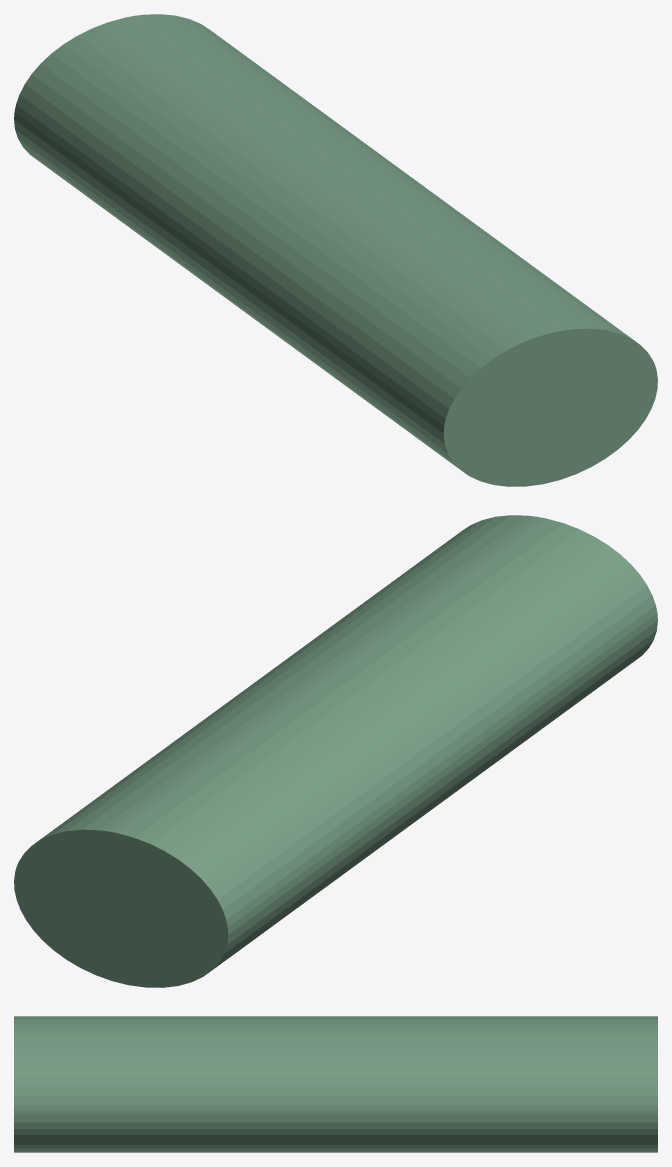
File: peg_46_canonical.obj
The picture shows the model from 3 angles, top to bottom: view 1: azimuth 30°, elevation 25°; view 2: azimuth 150°, elevation 25°; view 3: azimuth 270°, elevation 25°; orthographic projection. The views are drawn at different scales.
Parts seen in each view (by area): view 1: geometry_0; view 2: geometry_0; view 3: geometry_0.
Part boxes in pixels (left/top/right/bottom): geometry_0: left=14, top=14, right=657, bottom=486; geometry_0: left=14, top=515, right=657, bottom=987; geometry_0: left=14, top=1016, right=657, bottom=1152.
Size of the model in its own units: 0.0432 by 0.0287 by 0.15.
